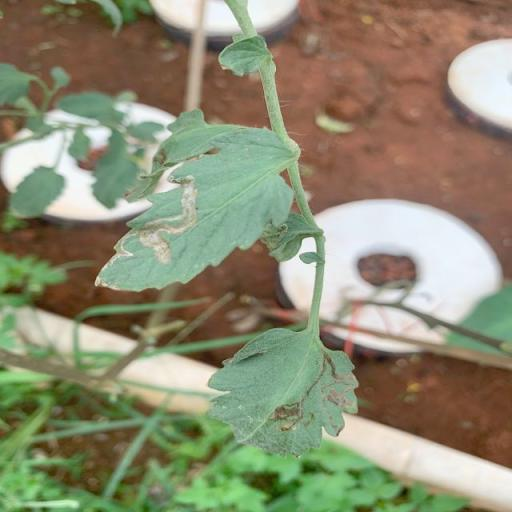disease_tomato: (90, 125, 294, 293)
